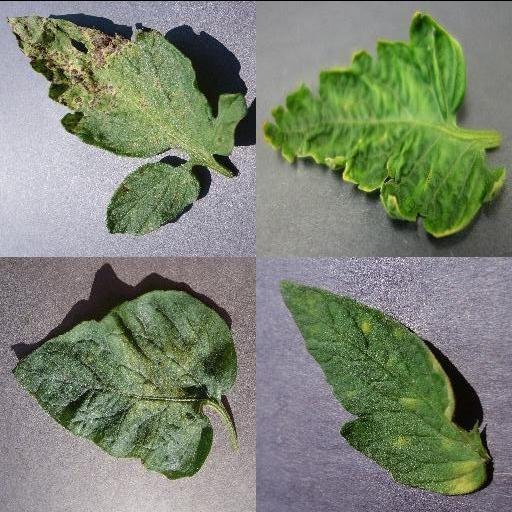Leaf Mold: (280, 280, 490, 496)
Septoria: (4, 15, 248, 159)
Spider Mites: (12, 288, 238, 478)
Yellow Leaf Curl Virus: (262, 9, 506, 239)
